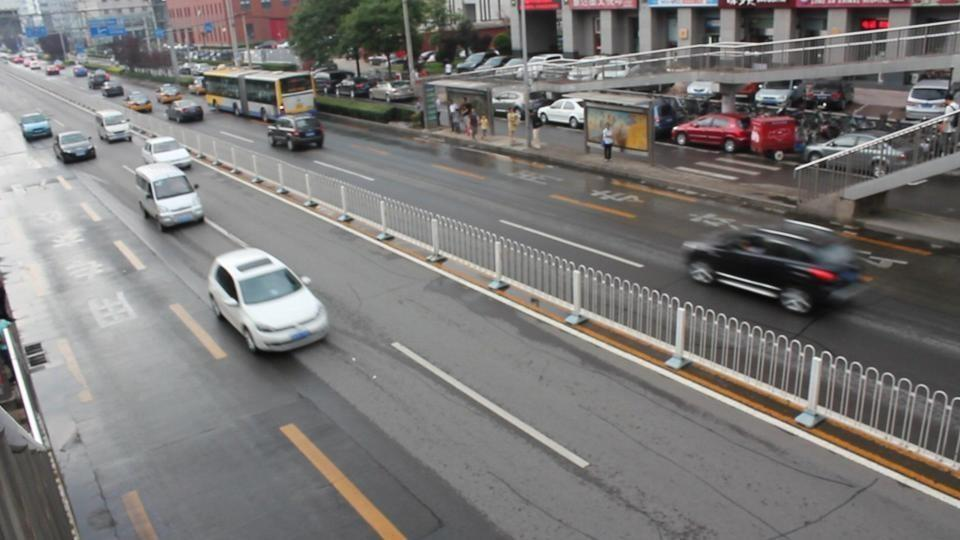car: (681, 226, 867, 315), (207, 247, 332, 354), (133, 161, 205, 230), (798, 131, 911, 174), (733, 77, 844, 113), (671, 113, 754, 153), (905, 75, 958, 121), (267, 113, 325, 151), (140, 134, 194, 171), (453, 54, 524, 76), (535, 99, 586, 129), (54, 130, 96, 164), (94, 108, 132, 143), (369, 80, 419, 103), (19, 112, 53, 144), (166, 97, 205, 124)
